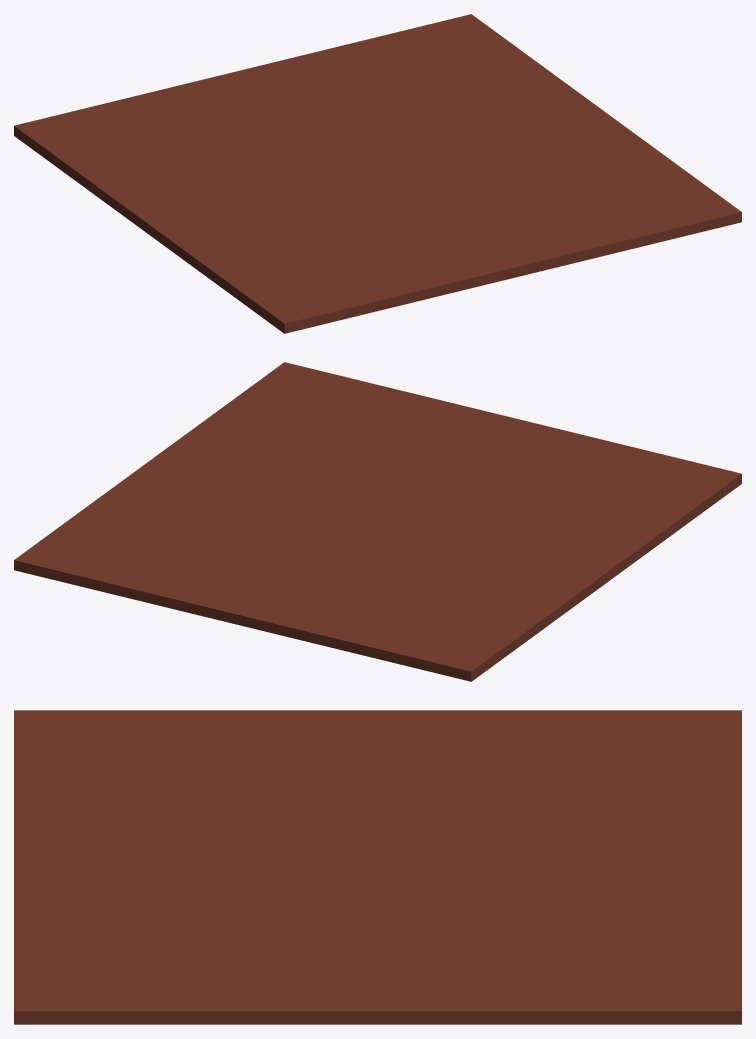
File: libfloor.fbx
3 views of the same model, one above another, from view 1: azimuth 30°, elevation 25°; view 2: azimuth 150°, elevation 25°; view 3: azimuth 270°, elevation 25° (orthographic). The views are drawn at different scales.
Visible parts, largest first — view 1: Floor(Baked); view 2: Floor(Baked); view 3: Floor(Baked).
Boxes of the visible parts, x1,y1,x2,y2 form: Floor(Baked): (14, 14, 741, 333); Floor(Baked): (14, 362, 741, 681); Floor(Baked): (14, 710, 741, 1024).
Bounding box in the file's own units: 9427 × 200 × 9656.
